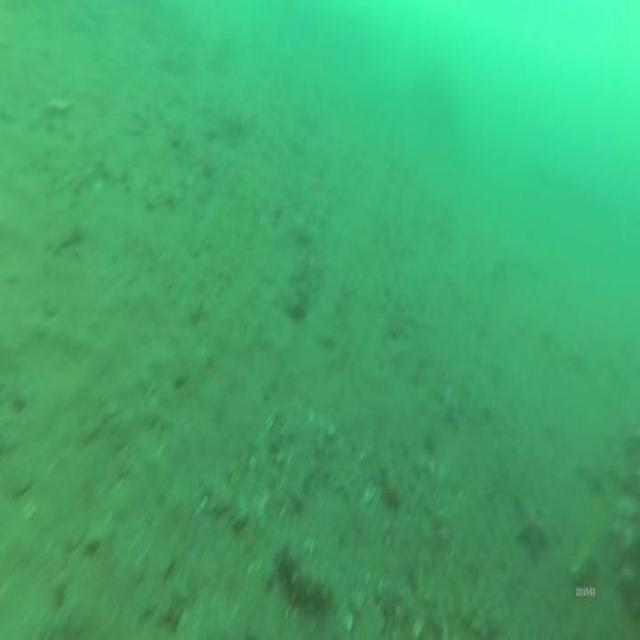holothurian: (270, 539, 332, 621)
starfish: (436, 376, 468, 433)
